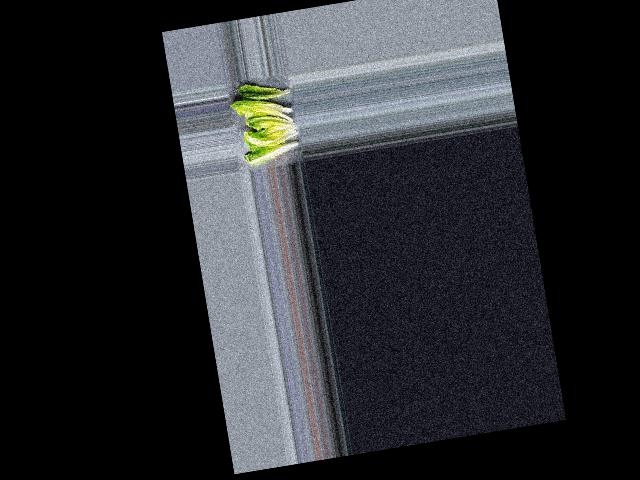lettuce: (237, 78, 293, 104)
